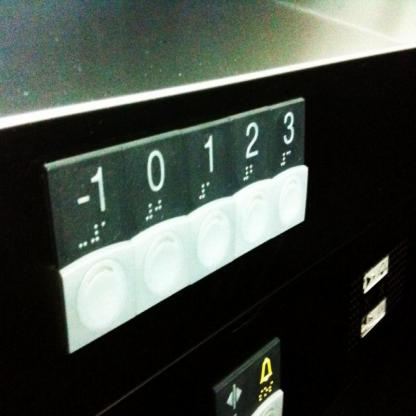-1: (43, 143, 124, 267)
0: (119, 127, 186, 242)
1: (182, 110, 232, 218)
2: (231, 106, 268, 194)
3: (269, 96, 305, 180)
alarm: (249, 334, 282, 414)
open: (211, 358, 252, 416)
